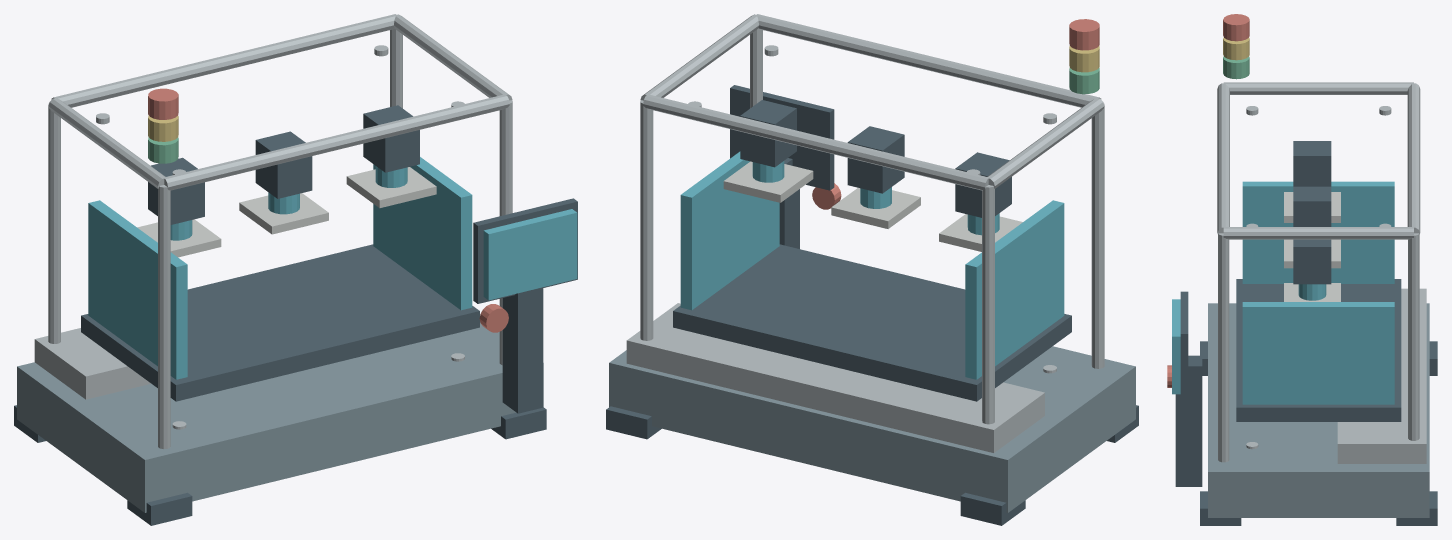
The model's file is validator.glb.
3 renders of one model, left to right at view 1: azimuth 30°, elevation 25°; view 2: azimuth 150°, elevation 25°; view 3: azimuth 270°, elevation 25°, orthographic. The views are drawn at different scales.
Parts seen in each view (by area): view 1: fabricated_base, inspection_stage, lightbar_-2.25, lightbar_2.25, operator_hmi_screen, toprail_1.5, toprail_-1.5, operator_hmi_pedestal, control_plinth, frame_-2.7_1.5, frame_-2.7_-1.5, vision_camera_0 (+16 smaller); view 2: fabricated_base, inspection_stage, control_plinth, lightbar_-2.25, lightbar_2.25, toprail_-1.5, toprail_1.5, operator_hmi_bezel, frame_-2.7_1.5, frame_2.7_-1.5, frame_-2.7_-1.5, vision_camera_0 (+14 smaller); view 3: fabricated_base, lightbar_2.25, lightbar_-2.25, inspection_stage, control_plinth, operator_hmi_pedestal, frame_2.7_1.5, crossrail_2.7, frame_2.7_-1.5, crossrail_-2.7, toprail_-1.5, toprail_1.5 (+14 smaller).
Part boxes in pixels (left/top/right/bottom): fabricated_base: left=17, top=322, right=543, bottom=512; inspection_stage: left=81, top=244, right=479, bottom=401; lightbar_-2.25: left=88, top=200, right=187, bottom=379; lightbar_2.25: left=373, top=157, right=472, bottom=310; operator_hmi_screen: left=483, top=209, right=577, bottom=300; toprail_1.5: left=163, top=94, right=509, bottom=190; toprail_-1.5: left=51, top=14, right=396, bottom=107; operator_hmi_pedestal: left=502, top=287, right=543, bottom=413; control_plinth: left=34, top=328, right=150, bottom=399; frame_-2.7_1.5: left=158, top=185, right=170, bottom=449; frame_-2.7_-1.5: left=48, top=103, right=60, bottom=343; vision_camera_0: left=255, top=131, right=312, bottom=198; fabricated_base: left=609, top=346, right=1135, bottom=512; inspection_stage: left=673, top=244, right=1071, bottom=401; control_plinth: left=626, top=303, right=1044, bottom=452; lightbar_-2.25: left=965, top=200, right=1064, bottom=379; lightbar_2.25: left=680, top=151, right=779, bottom=310; toprail_-1.5: left=643, top=94, right=988, bottom=190; toprail_1.5: left=756, top=14, right=1101, bottom=107; operator_hmi_bezel: left=730, top=85, right=834, bottom=190; frame_-2.7_1.5: left=1091, top=103, right=1104, bottom=368; frame_2.7_-1.5: left=640, top=100, right=653, bottom=340; frame_-2.7_-1.5: left=982, top=185, right=994, bottom=424; vision_camera_0: left=847, top=126, right=904, bottom=193; fabricated_base: left=1208, top=303, right=1429, bottom=517; lightbar_2.25: left=1242, top=302, right=1394, bottom=404; lightbar_-2.25: left=1242, top=181, right=1394, bottom=283; inspection_stage: left=1236, top=279, right=1401, bottom=421; control_plinth: left=1337, top=288, right=1426, bottom=463; operator_hmi_pedestal: left=1175, top=355, right=1202, bottom=486; frame_2.7_1.5: left=1218, top=233, right=1229, bottom=462; crossrail_2.7: left=1223, top=227, right=1413, bottom=239; frame_2.7_-1.5: left=1408, top=233, right=1419, bottom=440; crossrail_-2.7: left=1223, top=82, right=1413, bottom=94; toprail_-1.5: left=1407, top=83, right=1420, bottom=233; toprail_1.5: left=1217, top=83, right=1229, bottom=233.
Bounding box in the file's own units: 6.59 × 6.15 × 4.27.
